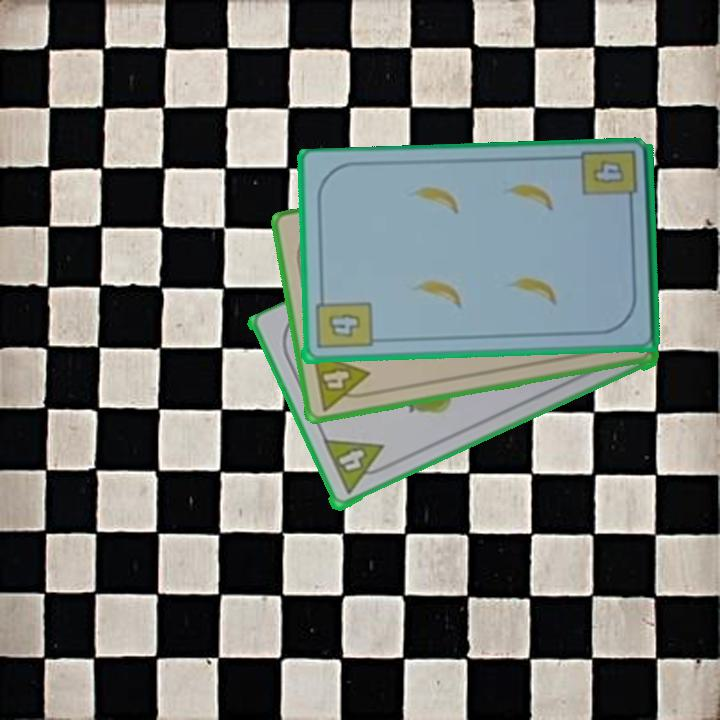4b: (578, 147, 641, 212), (311, 290, 374, 352)
4p: (320, 436, 393, 498), (309, 349, 376, 413)
